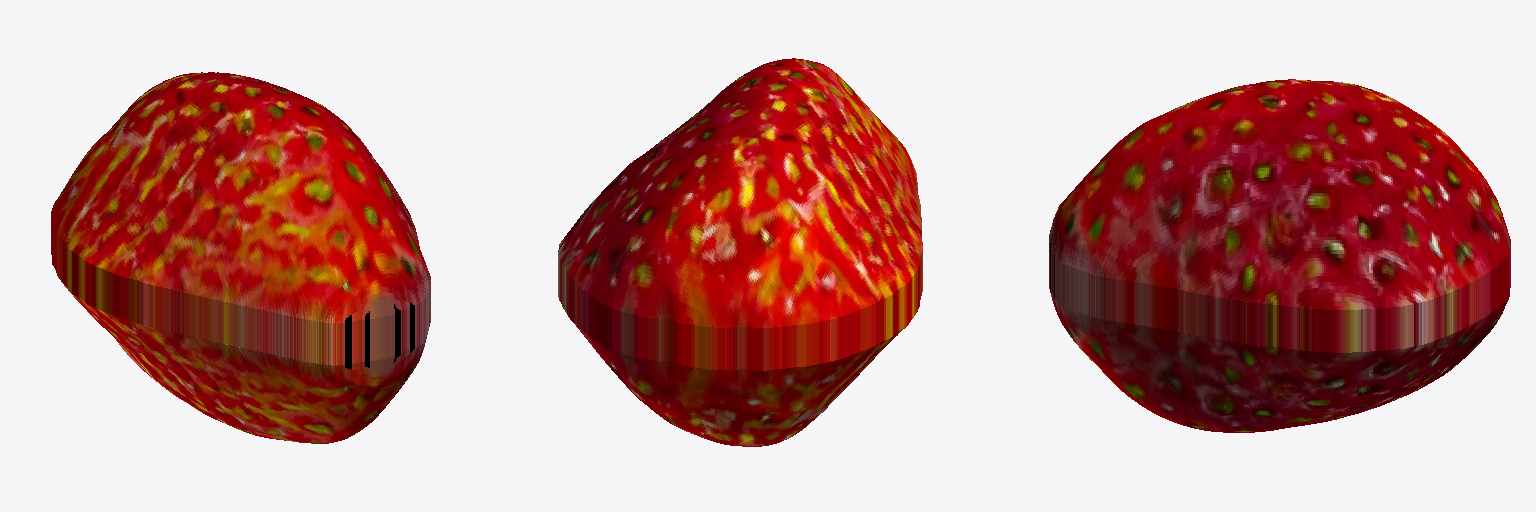
3 renders of one model, left to right at view 1: azimuth 30°, elevation 25°; view 2: azimuth 150°, elevation 25°; view 3: azimuth 270°, elevation 25°, orthographic.
Parts seen in each view (by area): view 1: Grid; view 2: Grid; view 3: Grid.
Part boxes in pixels (x1,y1,x2,y2): Grid: (51, 72, 430, 443); Grid: (558, 58, 922, 446); Grid: (1049, 79, 1510, 432).
Size of the model in its own units: 1.53 by 1.6 by 1.98.
1 materials, 1 textured.